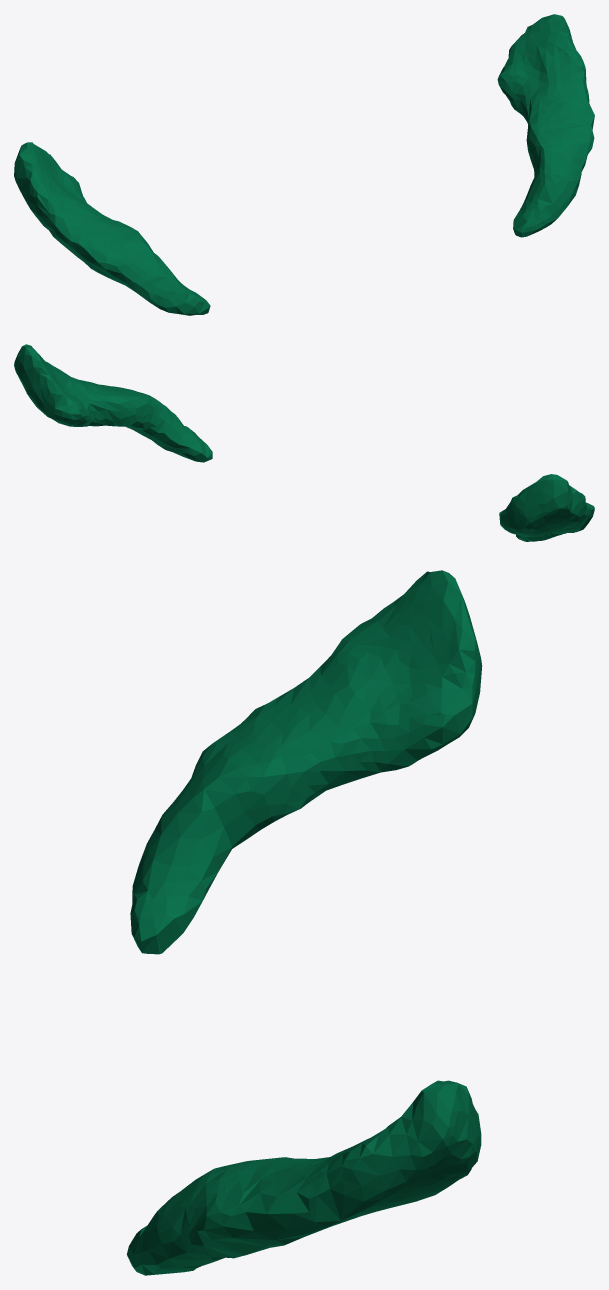
File: 102-Tea-temporal area TEa-('0.0000', '0.4980', '0.3255').obj
3 views of the same model, one above another, from view 1: azimuth 30°, elevation 25°; view 2: azimuth 150°, elevation 25°; view 3: azimuth 270°, elevation 25° (orthographic). The views are drawn at different scales.
Size of the model in its own units: 311 by 76.8 by 86.69.
